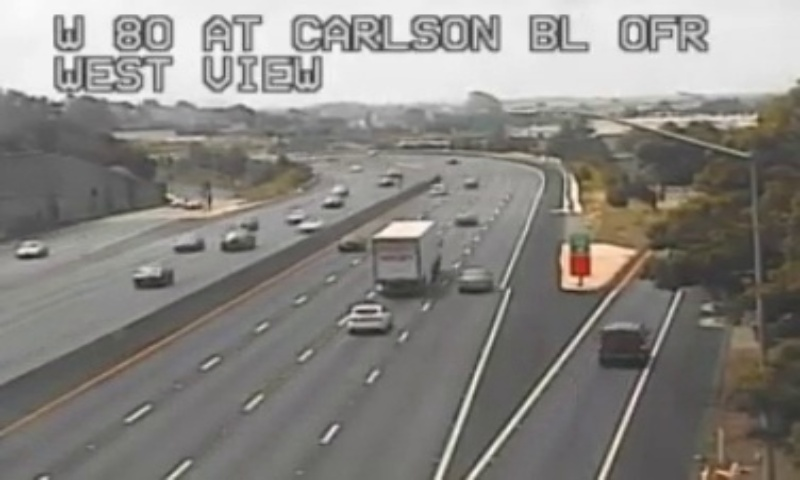car: (600, 323, 646, 366), (344, 303, 393, 333), (457, 267, 493, 292)
truck: (370, 218, 442, 294)
